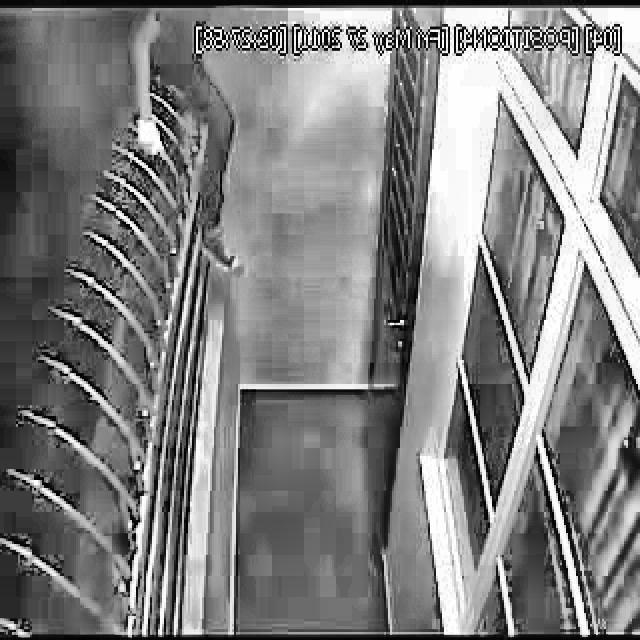burglary: (109, 9, 248, 284)
